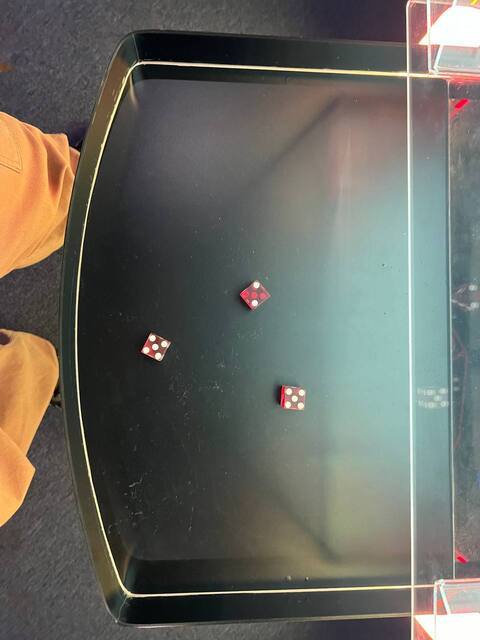five: (137, 331, 172, 362), (279, 384, 309, 414)
two: (237, 277, 272, 311)
